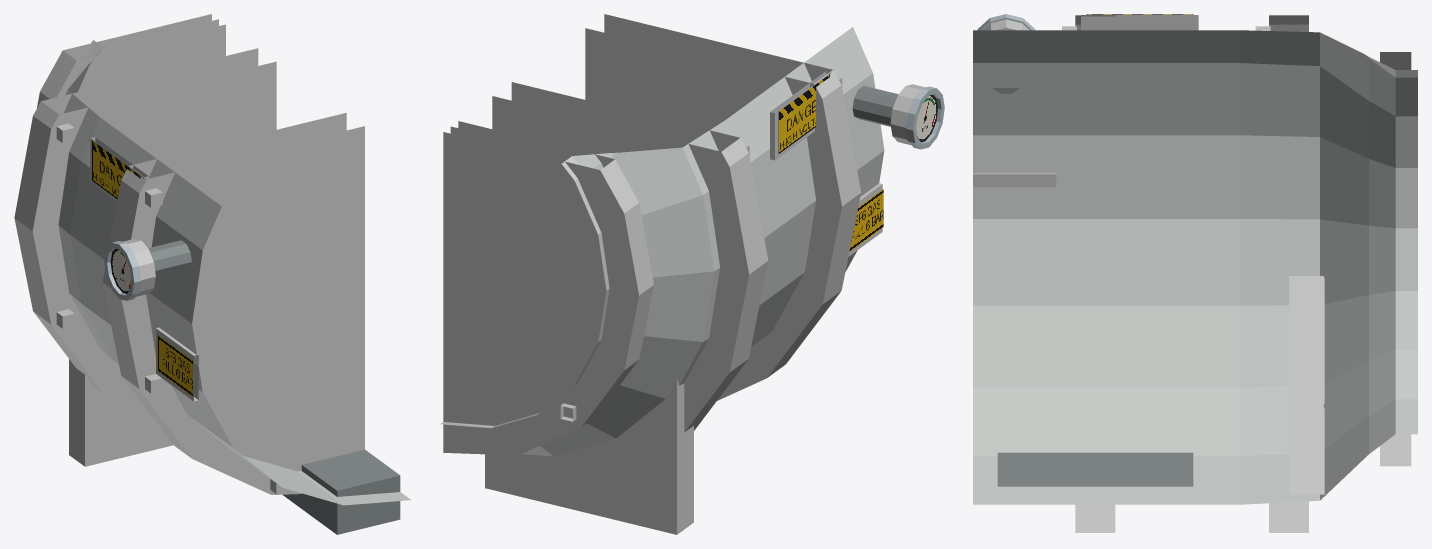
File: cell_32.obj
3 views of the same model, side by side, from view 1: azimuth 30°, elevation 25°; view 2: azimuth 150°, elevation 25°; view 3: azimuth 270°, elevation 25° (orthographic). The views are drawn at different scales.
Bounding box in the file's own units: 0.789 × 1 × 1.
